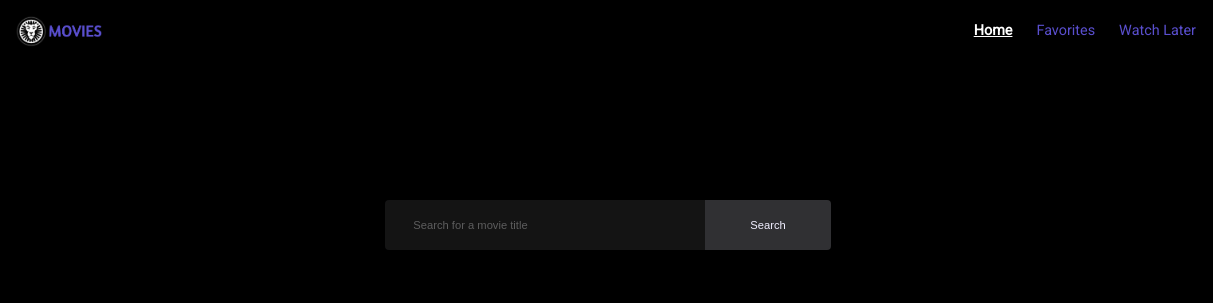
Test case: handles server error after searching for matrix
Type "matrix" into the field with test id "input_search" at (545, 225), box [385,200,705,250]
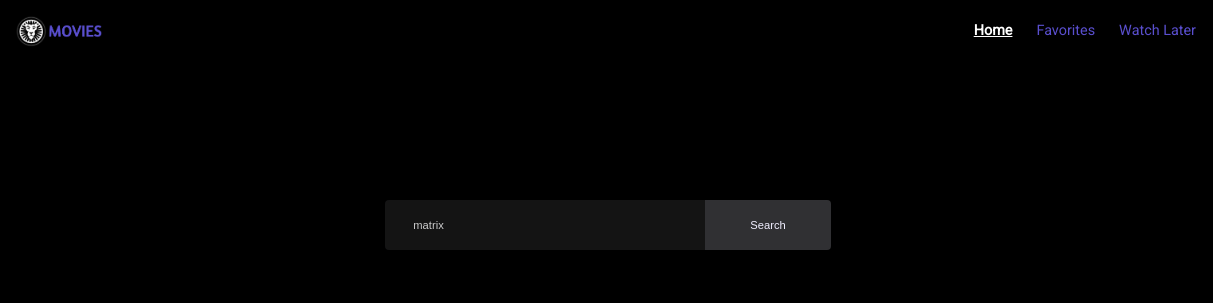
Click the button with test id "submit_search" at (768, 225), box [705,200,831,250]
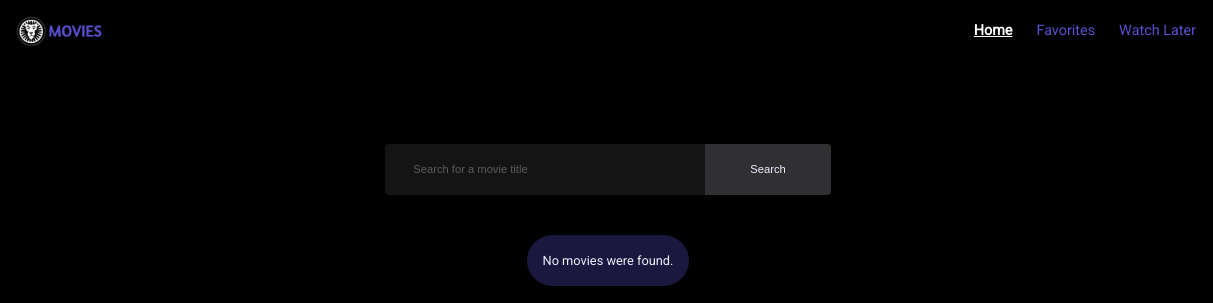
Expected: the text "No movies were found." is shown, [526,235,690,286]
